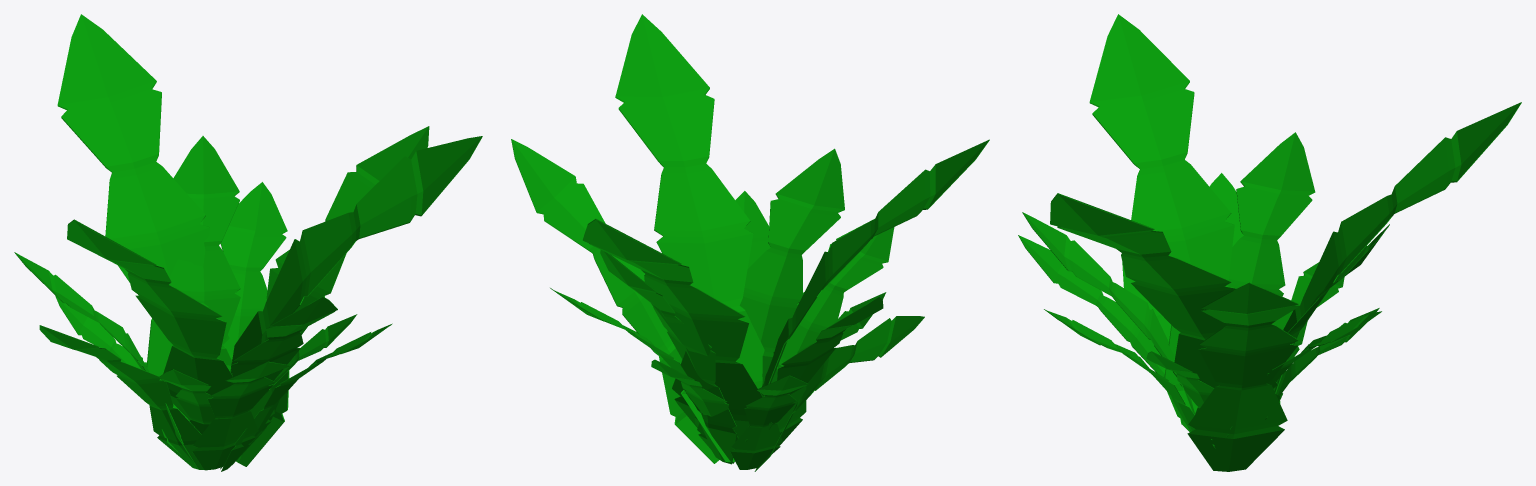
The model's file is arbusto.fbx.
3 views of the same model, side by side, from view 1: azimuth 30°, elevation 25°; view 2: azimuth 150°, elevation 25°; view 3: azimuth 270°, elevation 25° (orthographic). The views are drawn at different scales.
Visible parts, largest first — view 1: Plane, Plane.012, Plane.002, Plane.014, Plane.010, Plane.009, Plane.006, Plane.013, Plane.003, Plane.001, Plane.011, Plane.005 (+2 smaller); view 2: Plane.012, Plane, Plane.003, Plane.009, Plane.002, Plane.006, Plane.014, Plane.004, Plane.001, Plane.013, Plane.008, Plane.011 (+2 smaller); view 3: Plane.002, Plane.009, Plane.012, Plane, Plane.001, Plane.003, Plane.006, Plane.011, Plane.007, Plane.004, Plane.010, Plane.008 (+2 smaller).
Part boxes in pixels (x1,y1,x2,y2): Plane: (57,14,229,420); Plane.012: (230,136,482,373); Plane.002: (67,219,233,420); Plane.014: (169,136,240,365); Plane.010: (220,182,287,371); Plane.009: (236,126,429,466); Plane.006: (192,361,291,470); Plane.013: (39,325,204,469); Plane.003: (231,296,337,430); Plane.001: (14,252,198,468); Plane.011: (221,323,392,471); Plane.005: (158,369,216,434); Plane.012: (615,14,764,461); Plane: (583,219,772,438); Plane.003: (739,148,844,385); Plane.009: (511,139,719,463); Plane.002: (749,139,989,426); Plane.006: (777,219,894,368); Plane.014: (600,250,737,464); Plane.004: (730,375,807,469); Plane.001: (745,296,883,445); Plane.013: (754,316,924,471); Plane.008: (651,359,738,463); Plane.011: (735,191,770,268); Plane.002: (1089,14,1234,413); Plane.009: (1187,282,1299,471); Plane.012: (1050,193,1280,400); Plane: (1265,102,1521,419); Plane.001: (1228,132,1315,296); Plane.003: (1022,212,1195,414); Plane.006: (1018,235,1190,431); Plane.011: (1044,309,1215,448); Plane.007: (1146,351,1213,414); Plane.004: (1272,262,1344,403); Plane.010: (1226,311,1381,436); Plane.008: (1278,308,1379,395).
Size of the model in its own units: 791 by 630 by 795.
